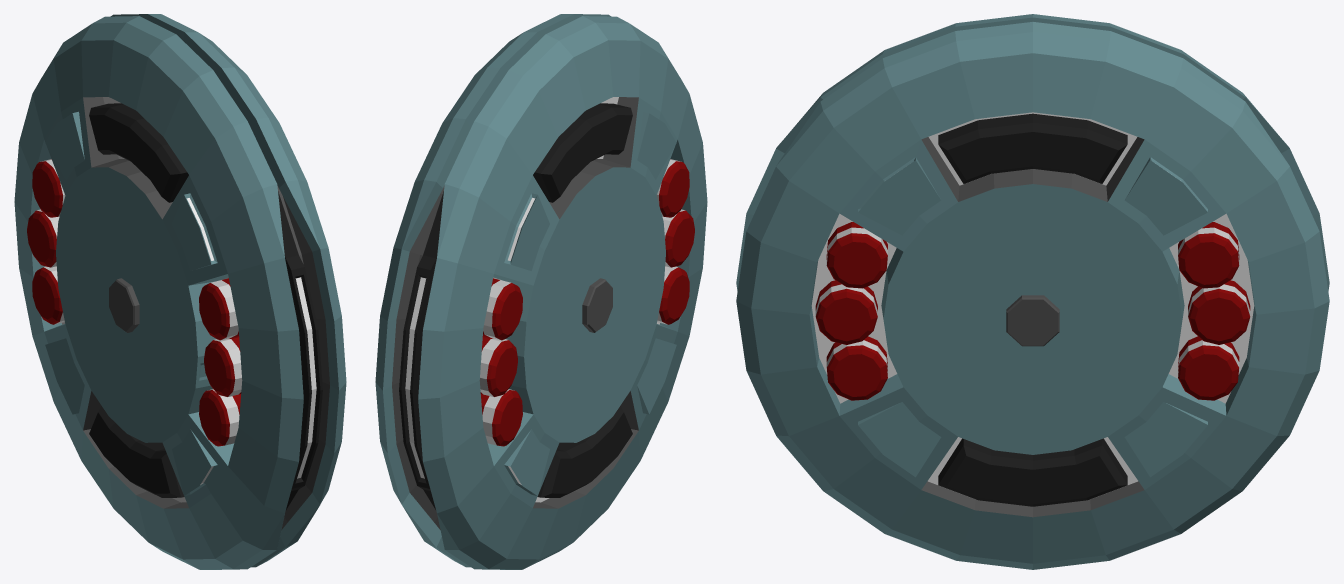
The model's file is SS_Hab2.fbx.
3 renders of one model, left to right at view 1: azimuth 30°, elevation 25°; view 2: azimuth 150°, elevation 25°; view 3: azimuth 270°, elevation 25°, orthographic. The views are drawn at different scales.
Parts seen in each view (by area): view 1: Cylinder; view 2: Cylinder; view 3: Cylinder.
Boxes of the visible parts, left/top/right/bottom form: Cylinder: left=14, top=14, right=346, bottom=569; Cylinder: left=375, top=14, right=707, bottom=569; Cylinder: left=736, top=14, right=1329, bottom=569.
Size of the model in its own units: 500 by 2076 by 2050.
